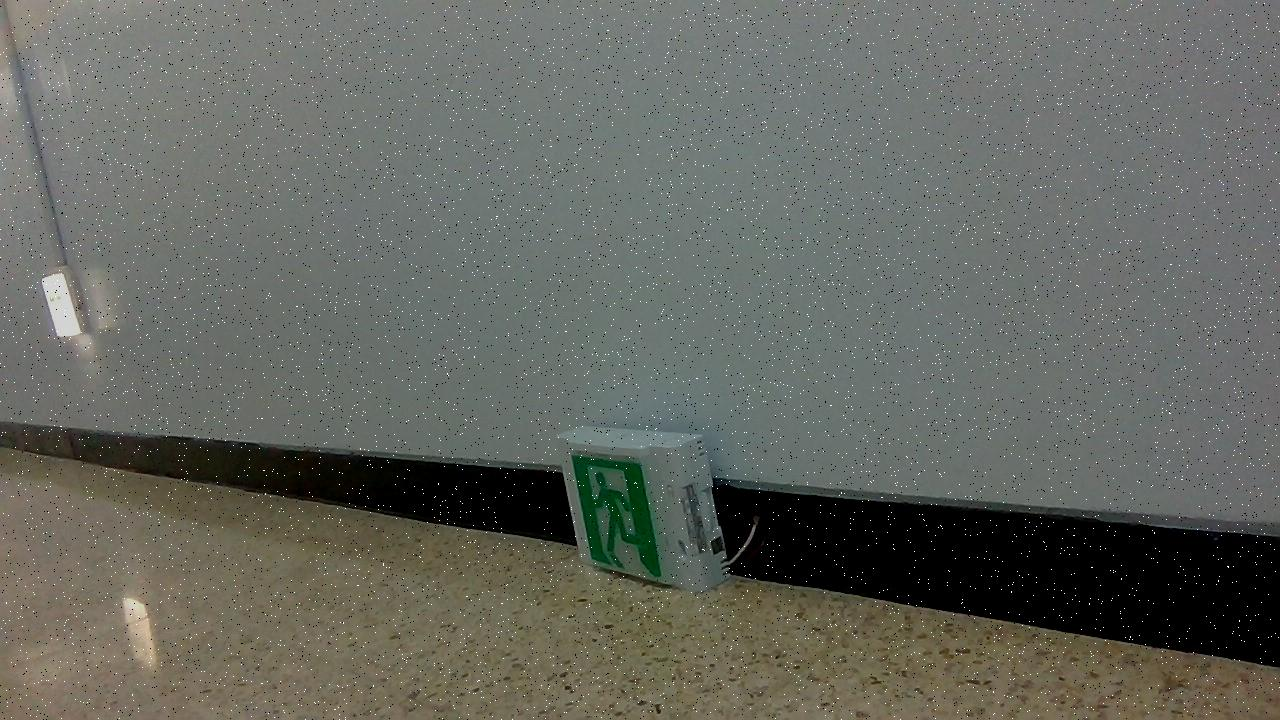emergency_exit: (558, 425, 729, 593)
